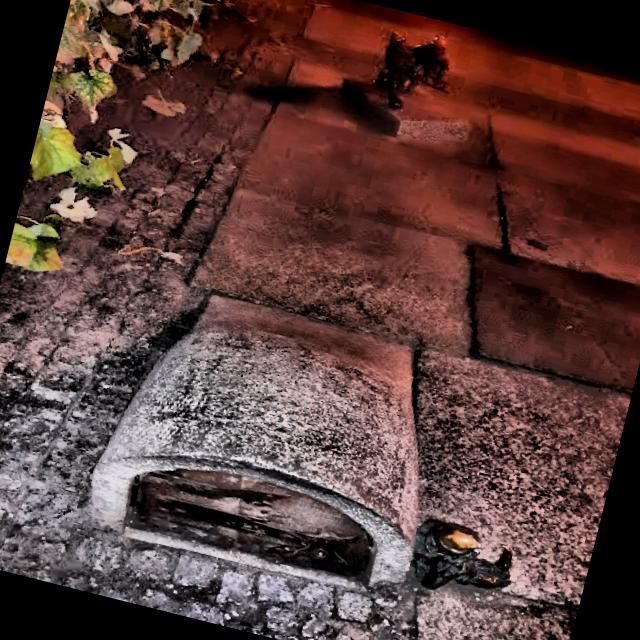Spioch: (411, 519, 509, 588)
